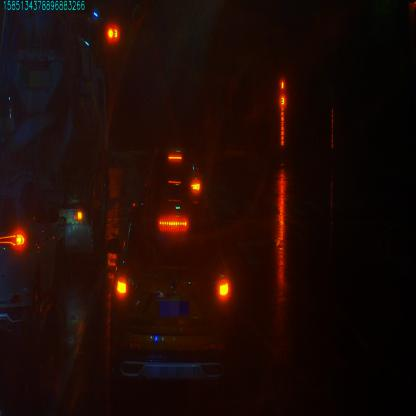traffic-light: (105, 22, 118, 41)
